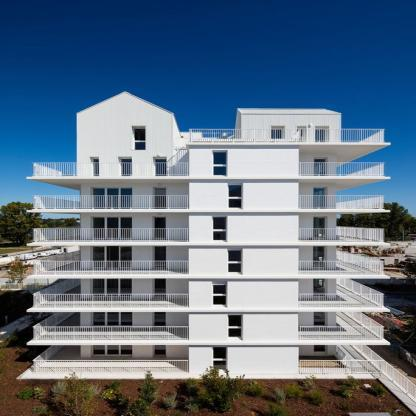Balcony: (189, 129, 385, 142), (30, 229, 190, 243), (30, 162, 190, 176), (31, 195, 190, 209), (33, 360, 190, 374), (33, 262, 190, 276), (33, 294, 190, 308), (33, 327, 190, 341), (299, 360, 386, 374), (299, 162, 386, 176), (299, 195, 386, 209), (299, 229, 386, 243), (299, 261, 386, 275), (299, 294, 386, 308), (299, 327, 386, 341)
Building Outline: (16, 91, 392, 379)
Door: (153, 217, 167, 239), (153, 246, 167, 268), (153, 187, 167, 209), (153, 336, 167, 356), (154, 279, 168, 298), (153, 306, 167, 325)
Facade: (17, 92, 392, 381)
Floor Slab: (27, 343, 390, 345), (27, 310, 390, 312), (27, 277, 390, 279), (27, 244, 390, 246), (27, 210, 390, 212), (27, 177, 390, 179), (189, 142, 390, 144)
Window: (92, 246, 131, 269), (92, 217, 131, 239), (92, 188, 131, 209), (92, 336, 131, 356), (92, 279, 131, 298), (92, 306, 131, 325), (213, 347, 227, 370), (213, 217, 227, 240), (213, 152, 227, 175), (229, 185, 242, 208), (213, 284, 227, 305), (134, 126, 146, 150), (228, 250, 241, 272), (228, 316, 241, 338), (314, 217, 326, 239), (314, 246, 326, 268), (314, 276, 326, 298), (314, 305, 326, 327), (314, 189, 326, 210), (314, 334, 326, 354), (155, 160, 167, 179), (120, 160, 132, 179), (314, 159, 326, 177), (316, 129, 328, 143), (272, 129, 284, 143), (93, 160, 99, 179), (298, 129, 305, 143)
